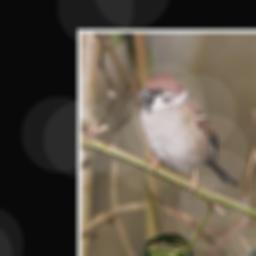Sparrow: (134, 72, 243, 197)
